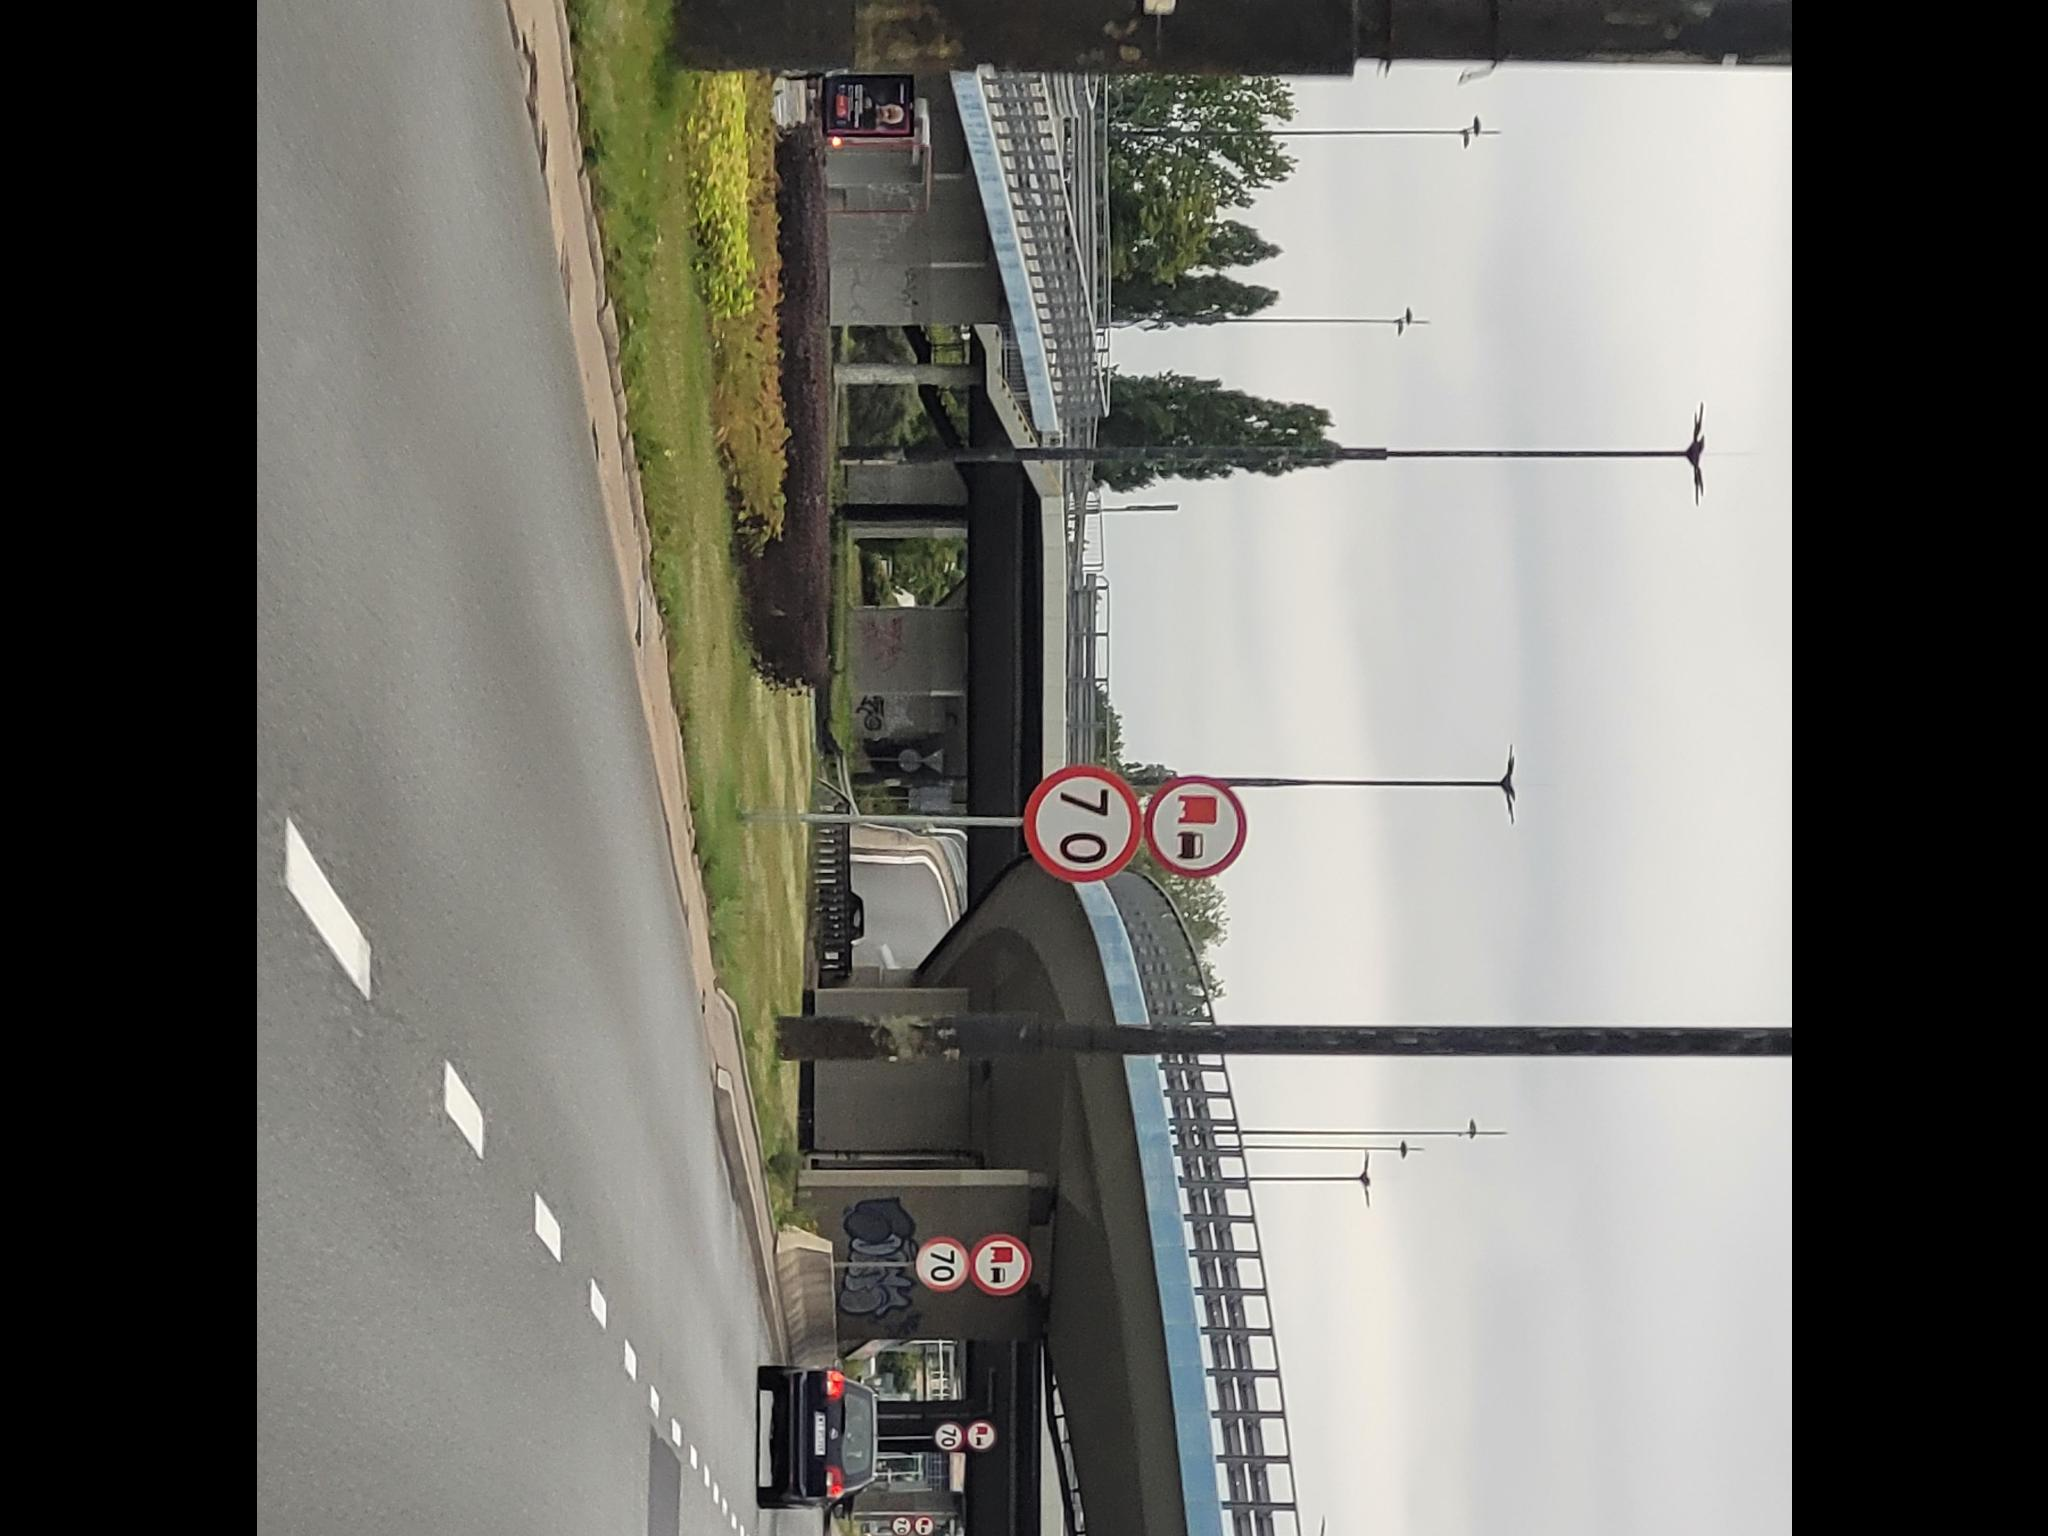prohibitory: (1021, 765, 1138, 883), (1142, 776, 1247, 876), (966, 1234, 1032, 1297), (913, 1236, 969, 1292), (964, 1420, 997, 1452), (934, 1421, 964, 1454), (889, 1515, 911, 1536), (913, 1515, 934, 1536)
